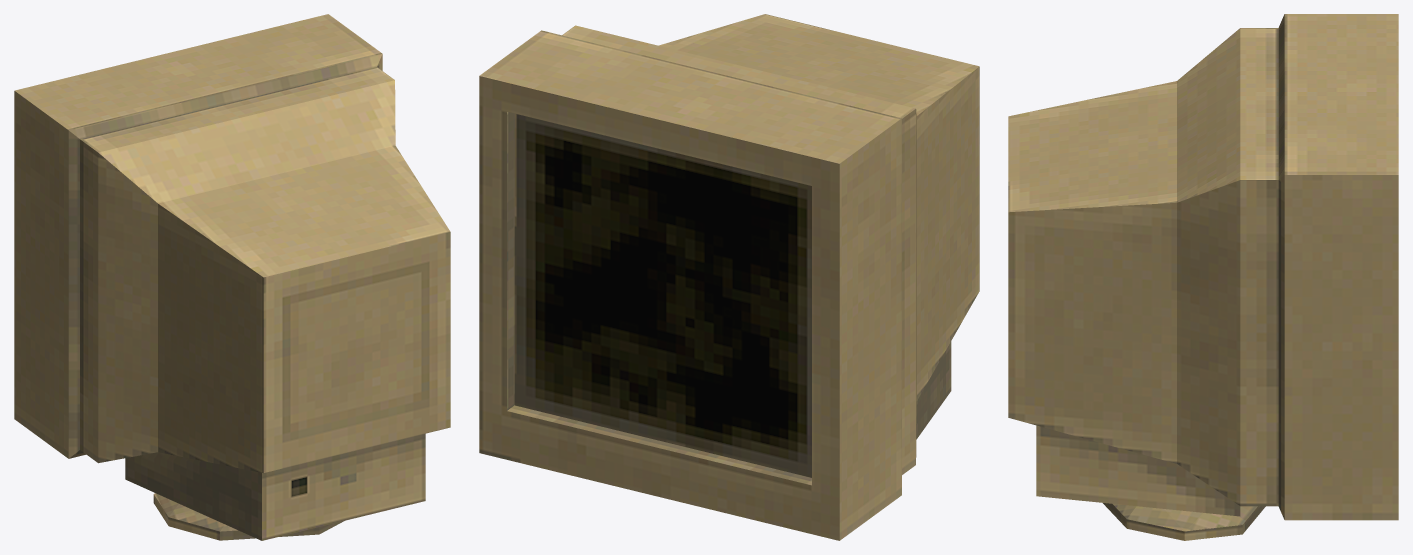
Rendered from SM_Monitor.fbx.
3 renders of one model, left to right at view 1: azimuth 30°, elevation 25°; view 2: azimuth 150°, elevation 25°; view 3: azimuth 270°, elevation 25°, orthographic. The views are drawn at different scales.
Parts seen in each view (by area): view 1: SM_Monitor; view 2: SM_Monitor; view 3: SM_Monitor.
Boxes of the visible parts, x1,y1,x2,y2 form: SM_Monitor: (14, 14, 450, 540); SM_Monitor: (479, 14, 979, 540); SM_Monitor: (1008, 14, 1398, 540).
Bounding box in the file's own units: 35 × 39.84 × 35.85.
